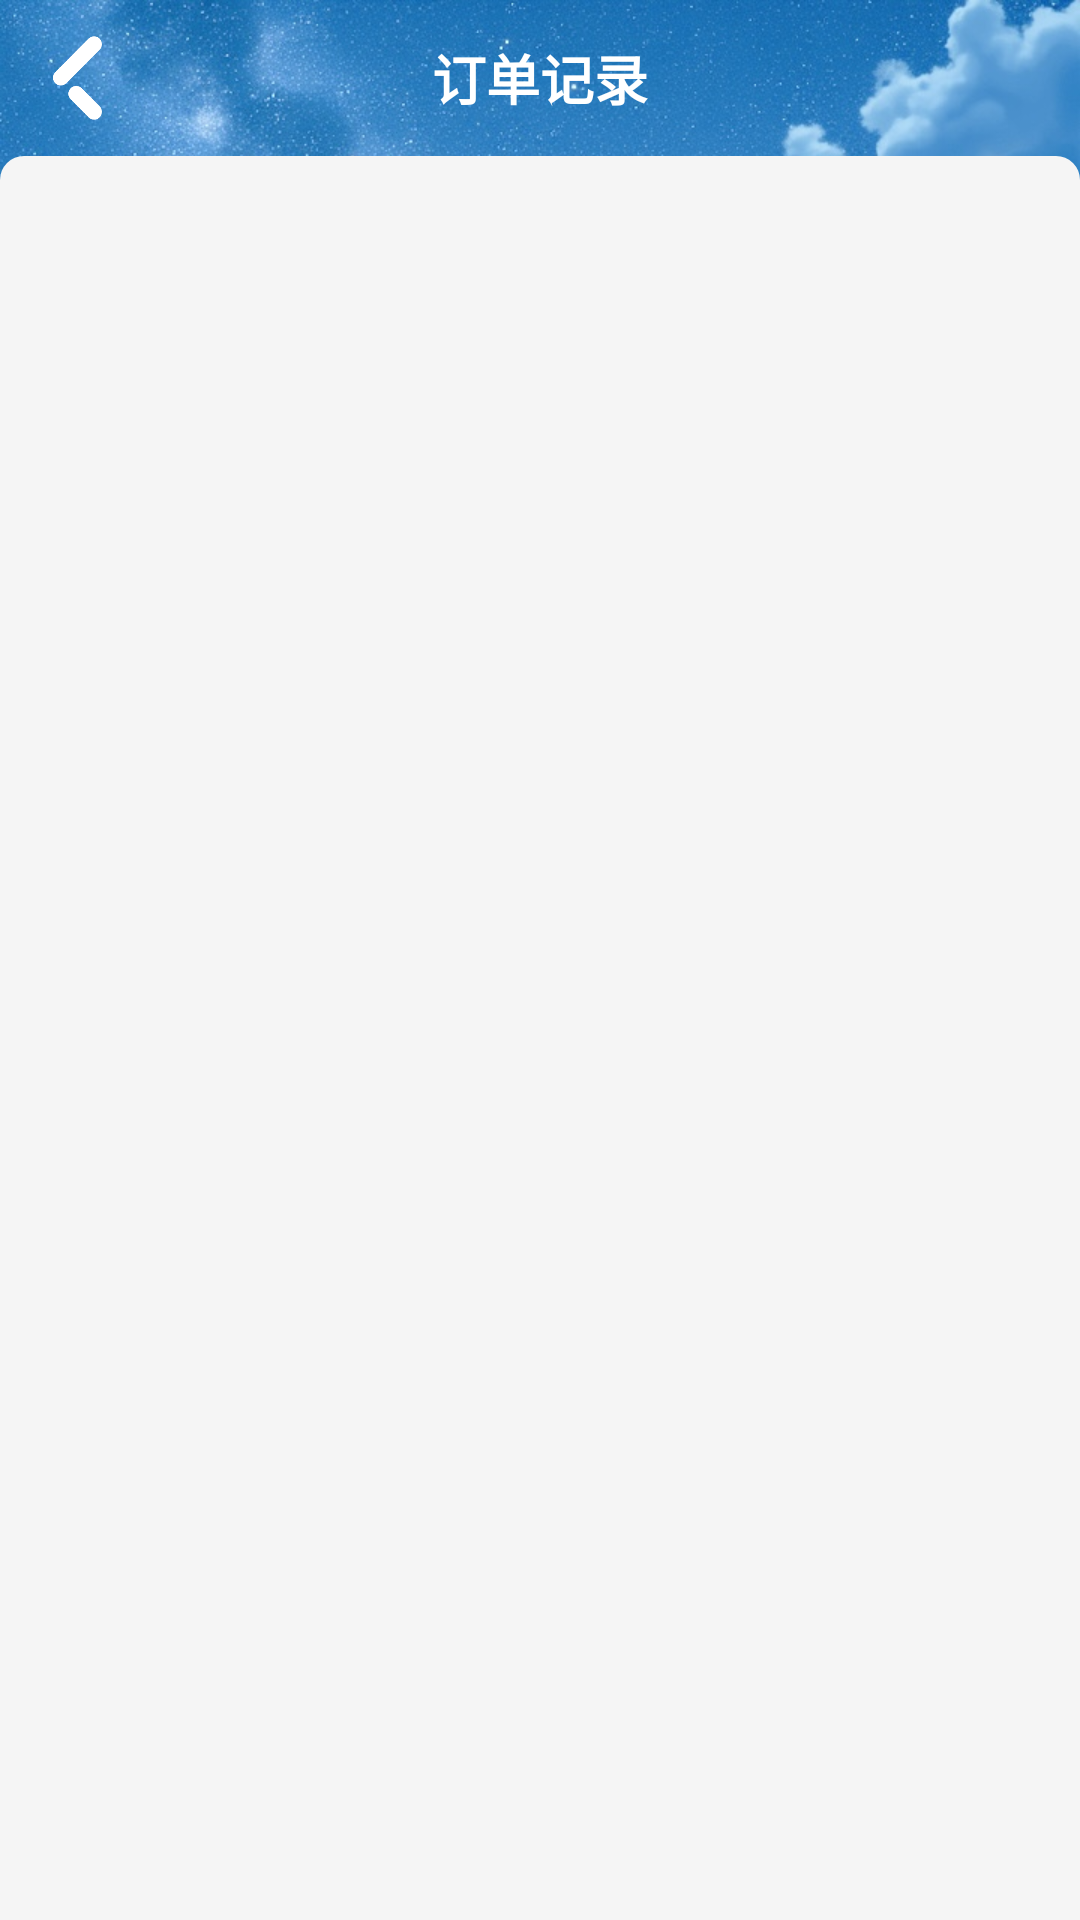

Icon click points for this 1080 × 1920 phone screenshot, format (x,y):
goback: (78,78)
